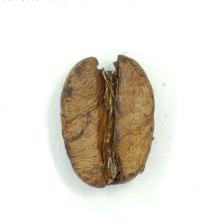NG: (64, 53, 152, 188)
